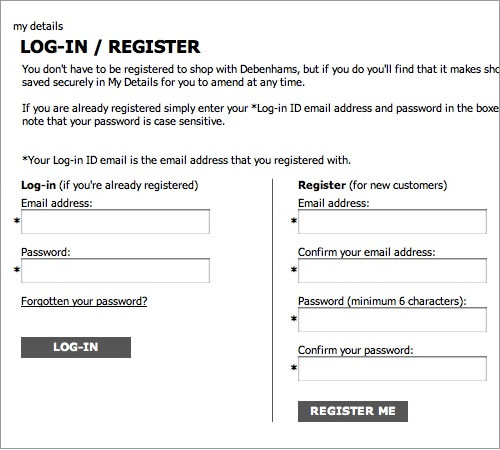_form_: (220, 42, 498, 439), (1, 22, 277, 419)
button: (20, 336, 131, 359), (298, 401, 409, 422)
field: (18, 256, 211, 284), (295, 207, 487, 235), (295, 305, 487, 333), (296, 256, 487, 284), (295, 355, 489, 382), (19, 207, 210, 234)
field_with_label: (294, 246, 488, 287), (16, 247, 212, 287), (293, 345, 489, 385), (294, 296, 489, 335), (294, 199, 488, 237), (18, 198, 211, 236)
